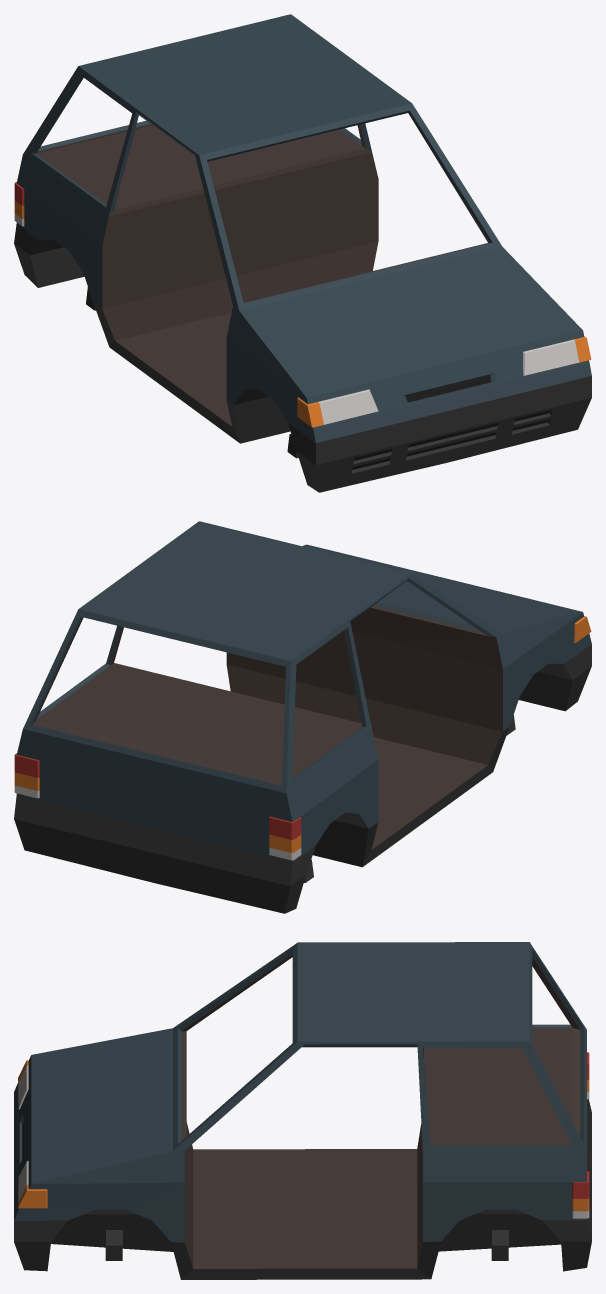
Rendered from car.glb.
The picture shows the model from 3 angles, top to bottom: view 1: azimuth 30°, elevation 25°; view 2: azimuth 150°, elevation 25°; view 3: azimuth 270°, elevation 25°; orthographic projection. The views are drawn at different scales.
Visible parts, largest first — view 1: car body; view 2: car body; view 3: car body.
Boxes of the visible parts, x1,y1,x2,y2 form: car body: [14, 14, 591, 492]; car body: [14, 521, 591, 913]; car body: [14, 942, 591, 1279].
Size of the model in its own units: 1.85 by 1.51 by 3.46.
1 material, 1 textured.
